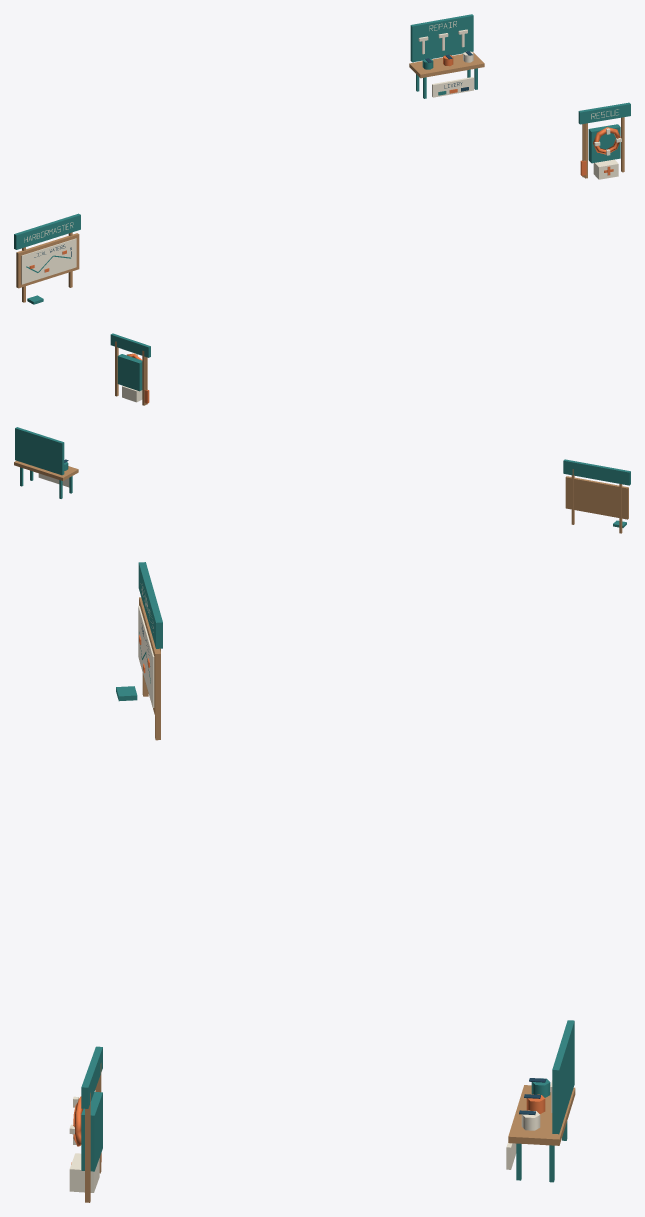
The model's file is harbor.glb.
The picture shows the model from 3 angles, top to bottom: view 1: azimuth 30°, elevation 25°; view 2: azimuth 150°, elevation 25°; view 3: azimuth 270°, elevation 25°; orthographic projection. The views are drawn at different scales.
Parts seen in each view (by area): view 1: static_detail_teal, static_detail_ivory, static_detail_wood, static_detail_orange; view 2: static_detail_teal, static_detail_wood, static_detail_ivory; view 3: static_detail_teal, static_detail_wood, static_detail_ivory.
Boxes of the visible parts, x1=… form: static_detail_teal: x1=14, y1=14, x2=630, y2=304; static_detail_ivory: x1=21, y1=21, x2=621, y2=284; static_detail_wood: x1=16, y1=52, x2=624, y2=302; static_detail_orange: x1=29, y1=55, x2=620, y2=272; static_detail_teal: x1=15, y1=333, x2=630, y2=527; static_detail_wood: x1=14, y1=341, x2=628, y2=533; static_detail_ivory: x1=38, y1=353, x2=142, y2=487; static_detail_teal: x1=81, y1=562, x2=574, y2=1182; static_detail_wood: x1=85, y1=597, x2=575, y2=1202; static_detail_ivory: x1=69, y1=583, x2=552, y2=1192.
Size of the model in its own units: 20.95 by 2.35 by 8.61.
